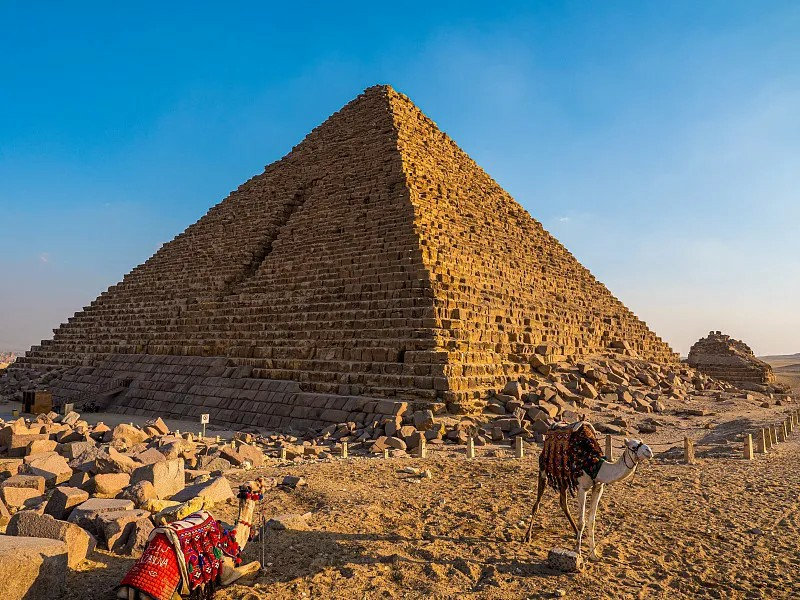Pyramid: (5, 84, 680, 415)
